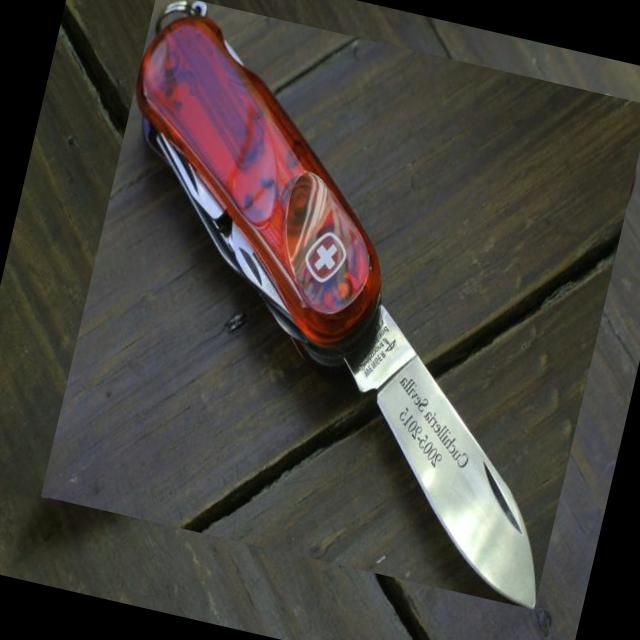Knife: (136, 0, 536, 609)
